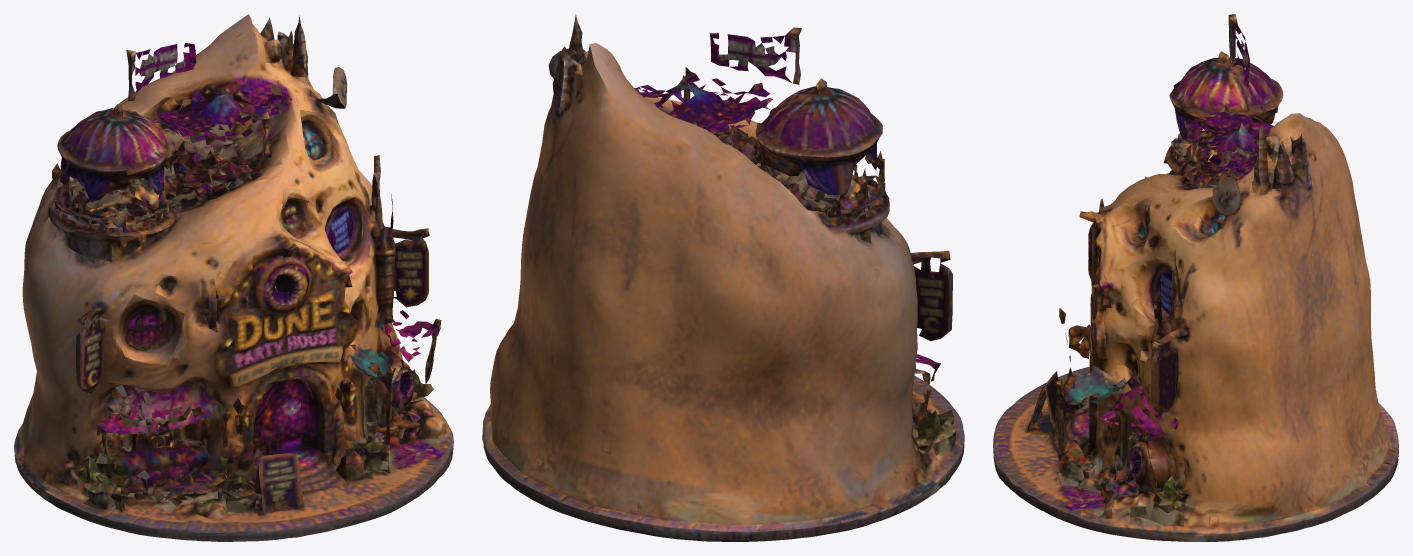
File: dune_partyhouse.glb
The picture shows the model from 3 angles, left to right: view 1: azimuth 30°, elevation 25°; view 2: azimuth 150°, elevation 25°; view 3: azimuth 270°, elevation 25°; orthographic projection. The views are drawn at different scales.
Parts seen in each view (by area): view 1: output; view 2: output; view 3: output.
Boxes of the visible parts, x1,y1,x2,y2 form: output: [14, 14, 453, 541]; output: [482, 14, 964, 541]; output: [993, 14, 1398, 541].
Bounding box in the file's own units: 1.94 × 2 × 1.85.
1 material, 1 textured.
